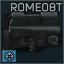SIG Sauer ROMEO8T reflex sight: (0, 0, 64, 64)
